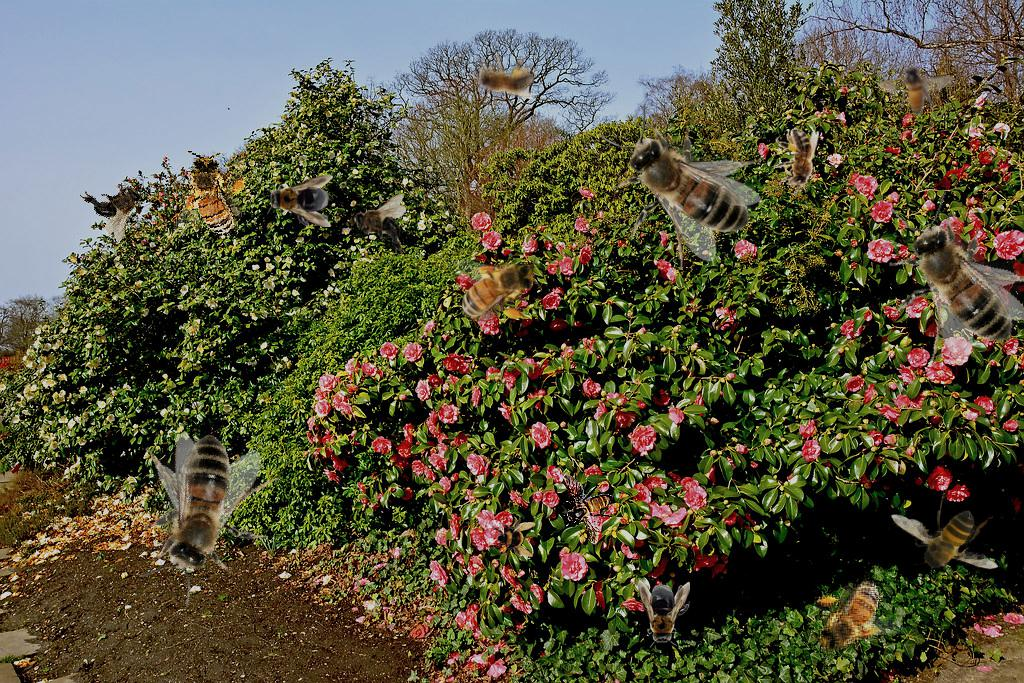Bee: (93, 404, 312, 620), (852, 178, 1024, 386), (599, 103, 761, 270), (797, 569, 909, 666), (889, 490, 1000, 584), (167, 144, 255, 251), (76, 163, 157, 245), (449, 255, 542, 323), (871, 53, 955, 124), (563, 474, 613, 545), (638, 580, 690, 648), (265, 175, 333, 227), (353, 194, 406, 256), (469, 54, 535, 99), (774, 129, 819, 195), (492, 515, 536, 559)
